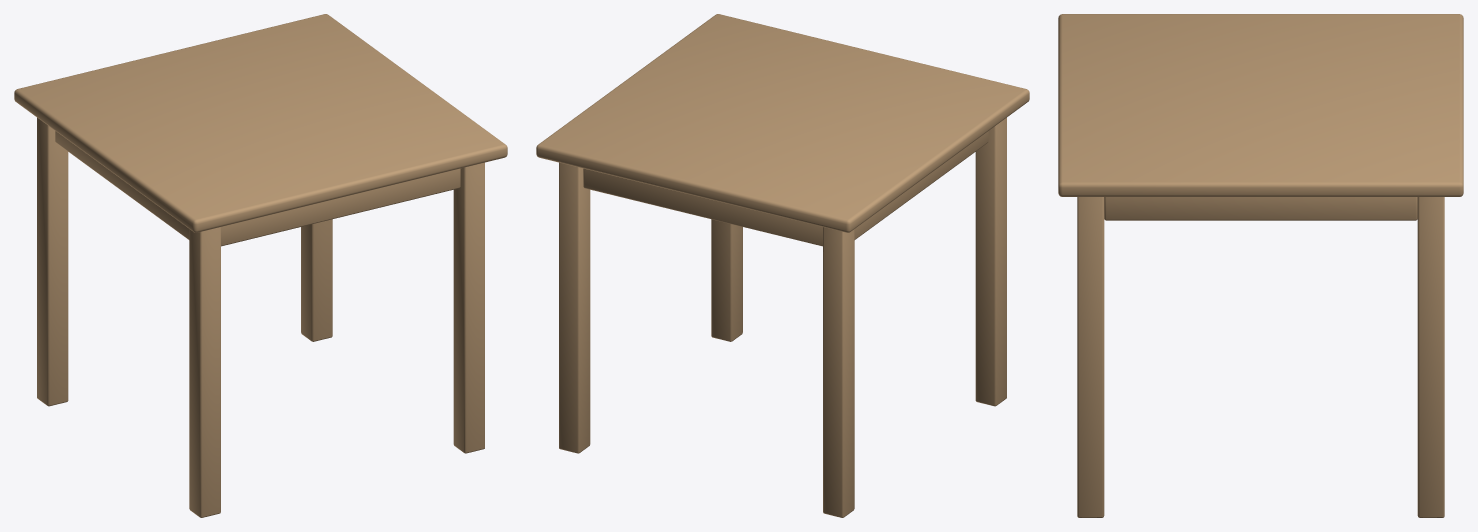
File: table-2.glb
3 views of the same model, side by side, from view 1: azimuth 30°, elevation 25°; view 2: azimuth 150°, elevation 25°; view 3: azimuth 270°, elevation 25° (orthographic). The views are drawn at different scales.
Parts seen in each view (by area): view 1: Table; view 2: Table; view 3: Table.
Boxes of the visible parts, x1=… form: Table: x1=14, y1=14, x2=507, y2=517; Table: x1=536, y1=14, x2=1029, y2=517; Table: x1=1058, y1=14, x2=1463, y2=517.
Bounding box in the file's own units: 0.75 × 0.7 × 0.75.
